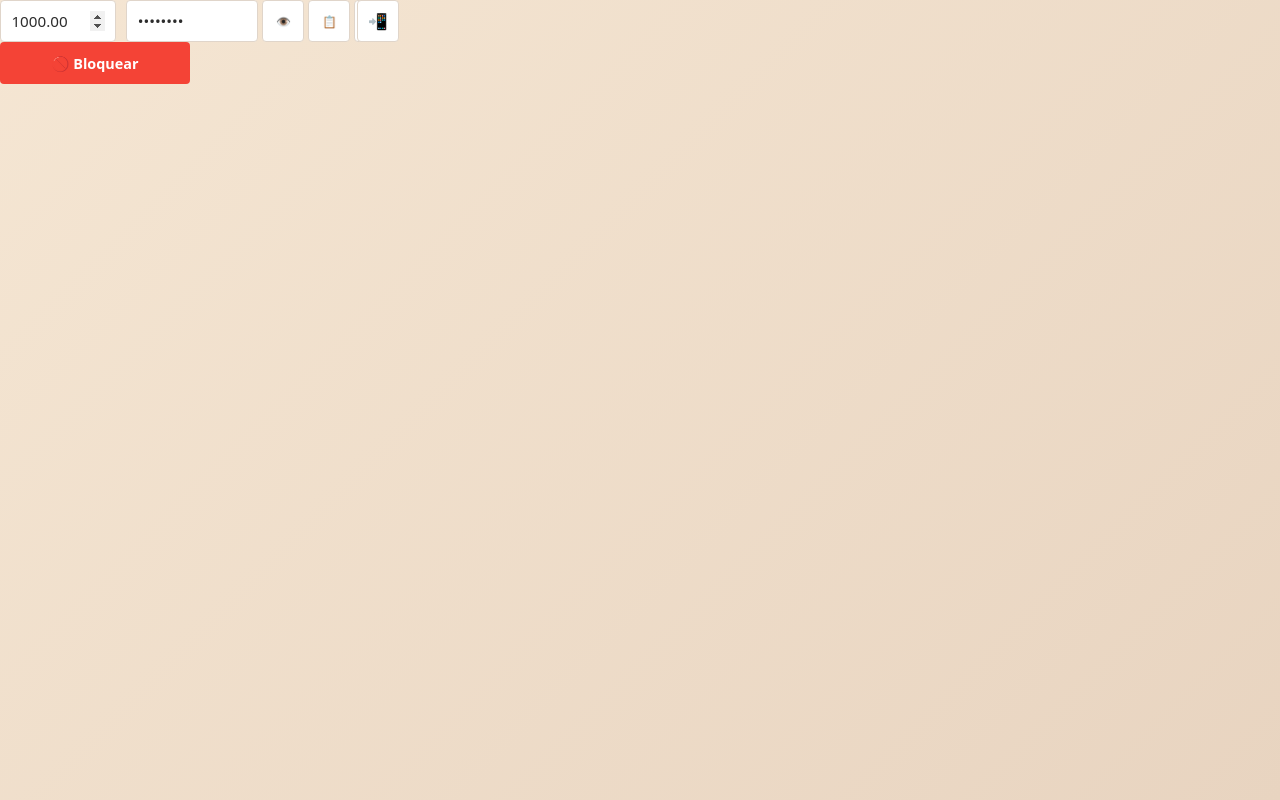
Scenario: ActiveCustomerControls › abre confirmacao protegida para visualizar a senha
Click the button named "Visualizar senha de Cliente Teste".
click(283, 21)  # box [262, 0, 304, 42]
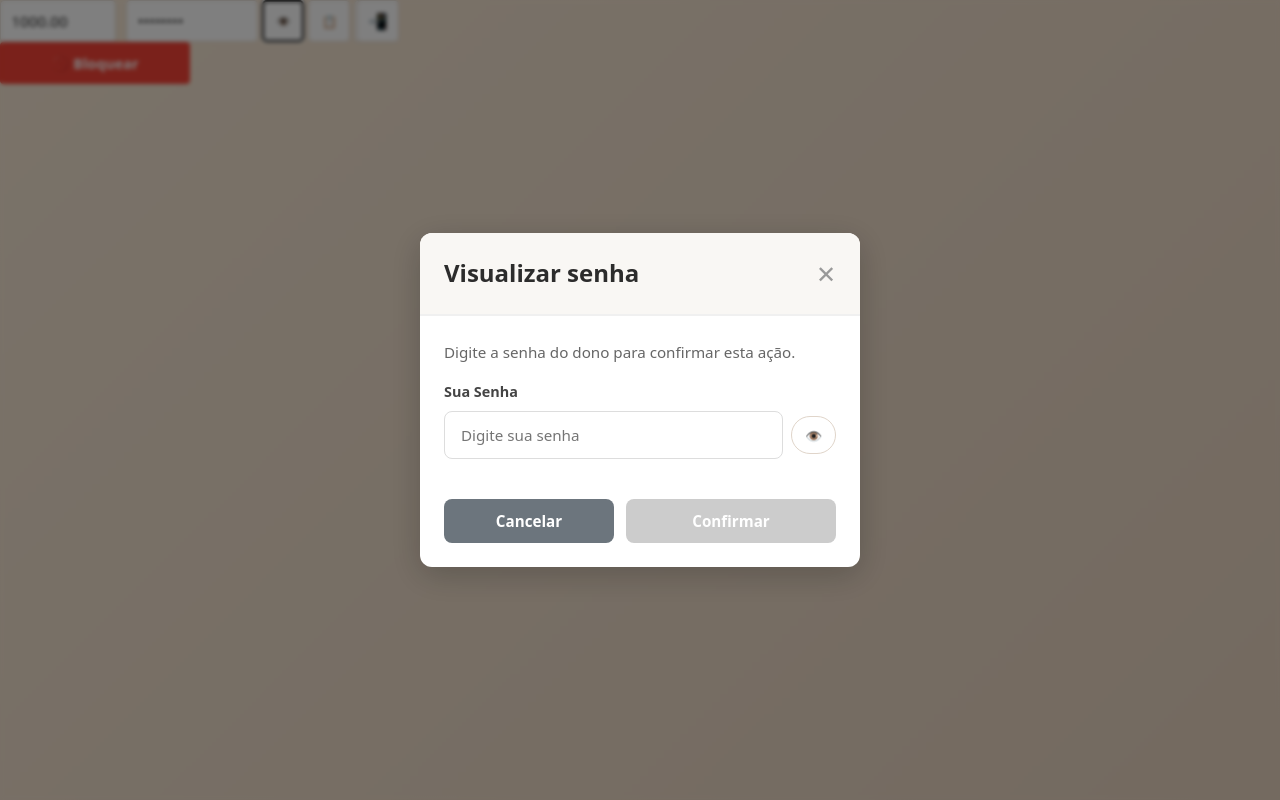
Expected: the heading "Visualizar senha" is shown, [444, 259, 639, 288]
Expected: the password field with placeholder "Digite sua senha" is shown, [444, 411, 783, 459]
